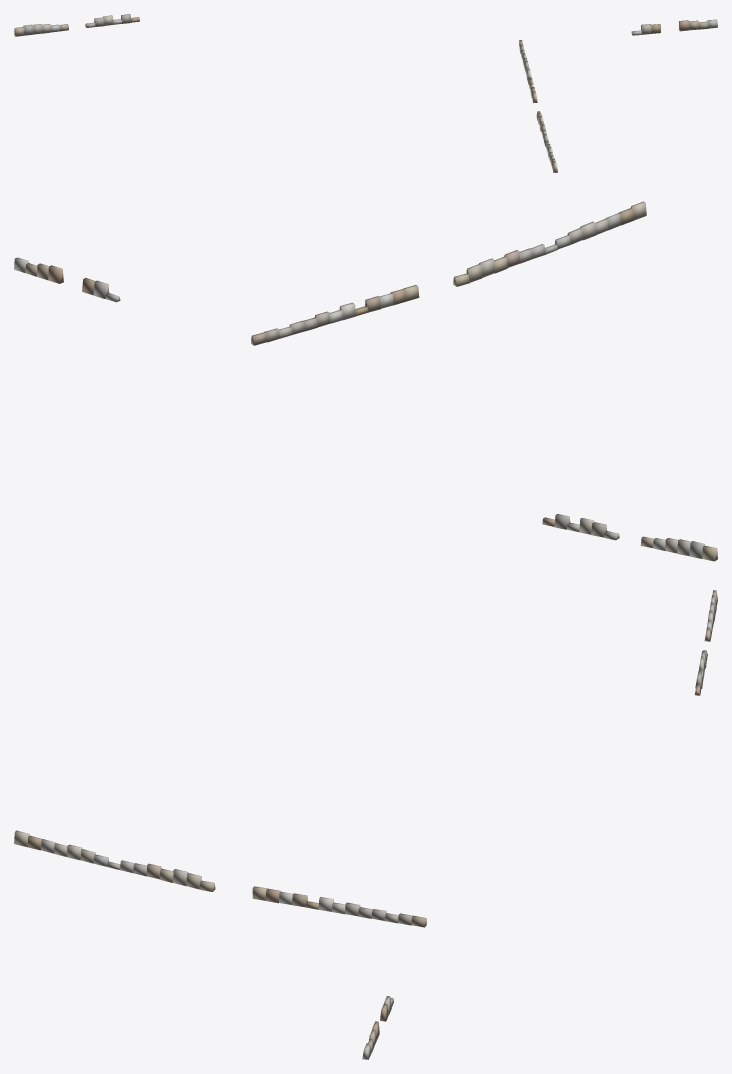
Rendered from farm_22_24_far.glb.
The picture shows the model from 3 angles, top to bottom: view 1: azimuth 30°, elevation 25°; view 2: azimuth 150°, elevation 25°; view 3: azimuth 270°, elevation 25°; orthographic projection. The views are drawn at different scales.
Parts seen in each view (by area): view 1: geometry_0; view 2: geometry_0; view 3: geometry_0.
Boxes of the visible parts, x1=… form: geometry_0: x1=14, y1=14, x2=717, y2=172; geometry_0: x1=14, y1=201, x2=717, y2=561; geometry_0: x1=14, y1=590, x2=717, y2=1059.
Size of the model in its own units: 104 by 8.54 by 77.13.
